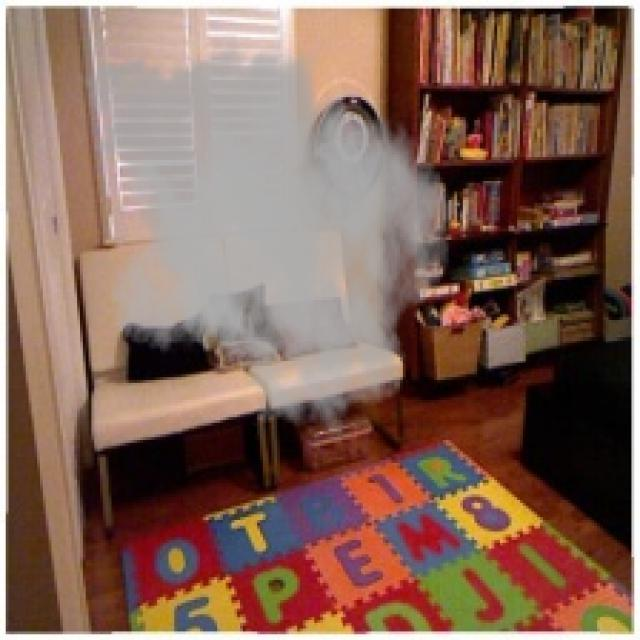smoke: (71, 34, 452, 440)
